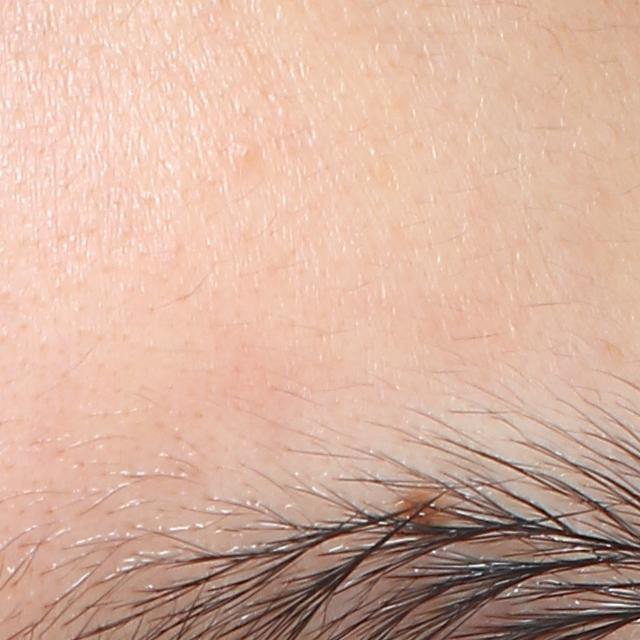comedo: (229, 132, 259, 168)
